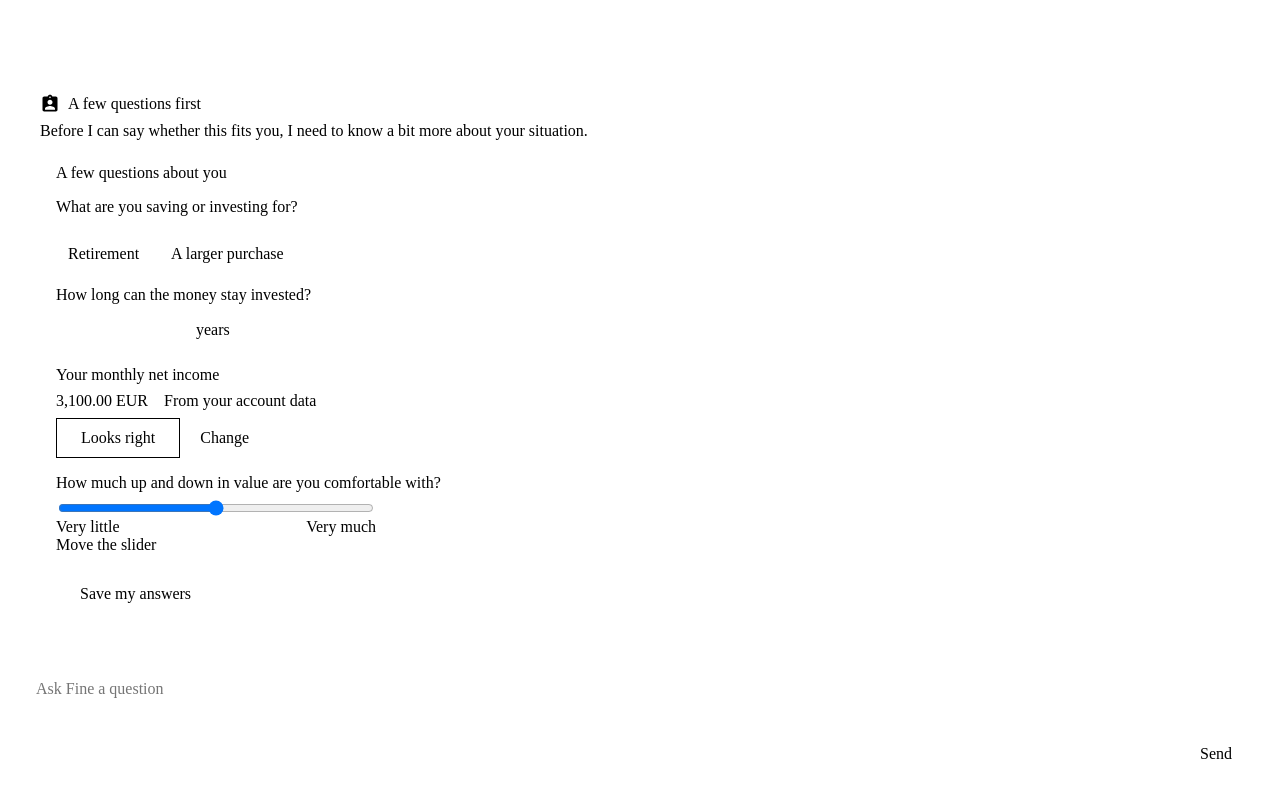
ChatColumnComponent › shows every open question in one form with the account value tagged and the fitting inputs
Expected: the number of elements with class "assessment-field" is 4, [56,198,298,270]; [56,286,311,350]; [56,366,316,458]; [56,474,441,553]
Expected: the button with class "looks-right" is shown, [56,418,180,458]
Note: Clicking the thumb where it stands answers with the middle option.
Click the slider named "How much up and down in value are you comfortable with?". click: [216, 508]
box: [58,500,374,516]
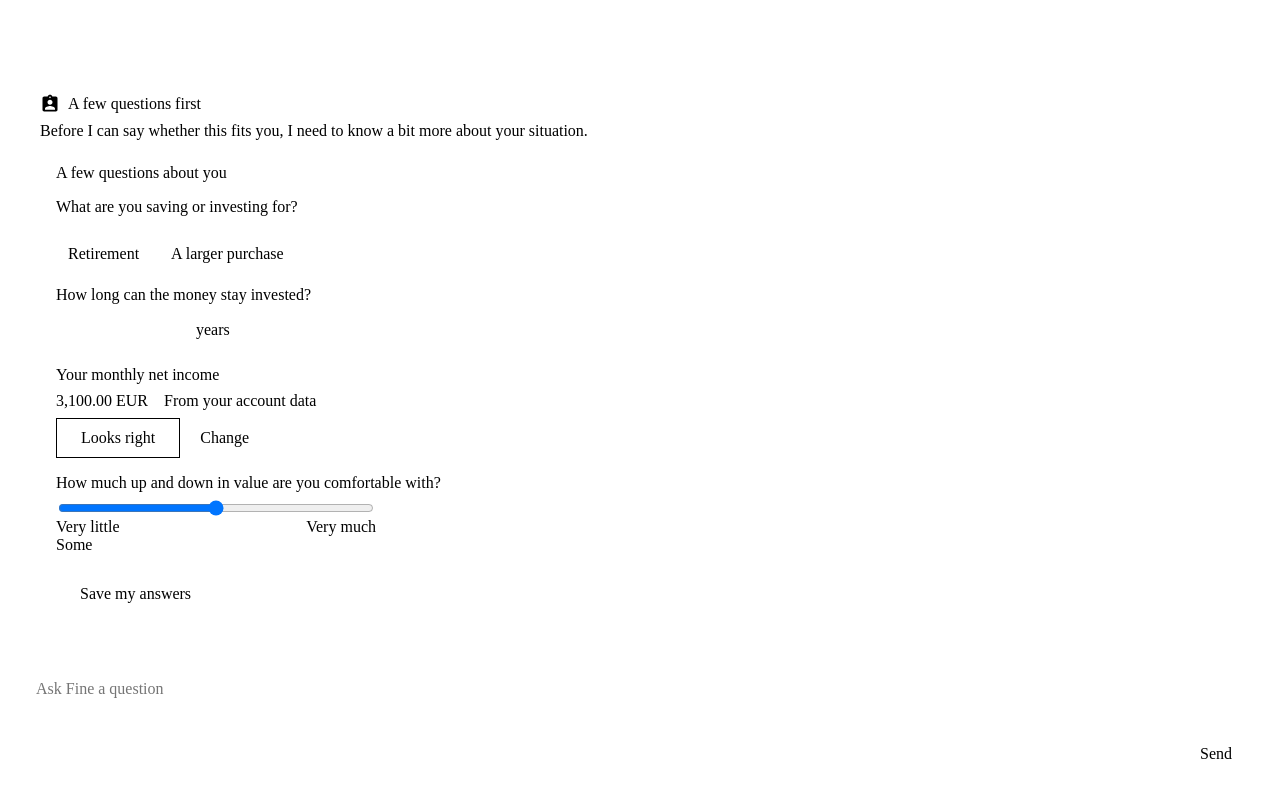
Expected: the text "Some" is shown, [56,536,92,553]
